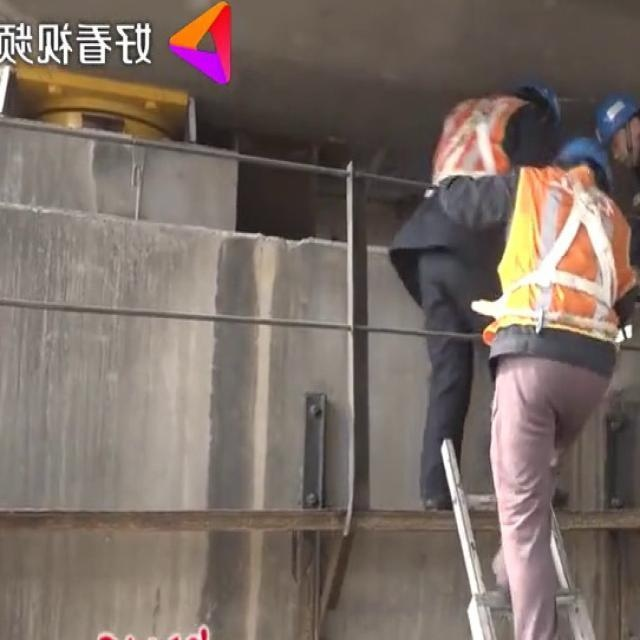Arnes_seguridad: (500, 166, 625, 333), (427, 88, 515, 191)
